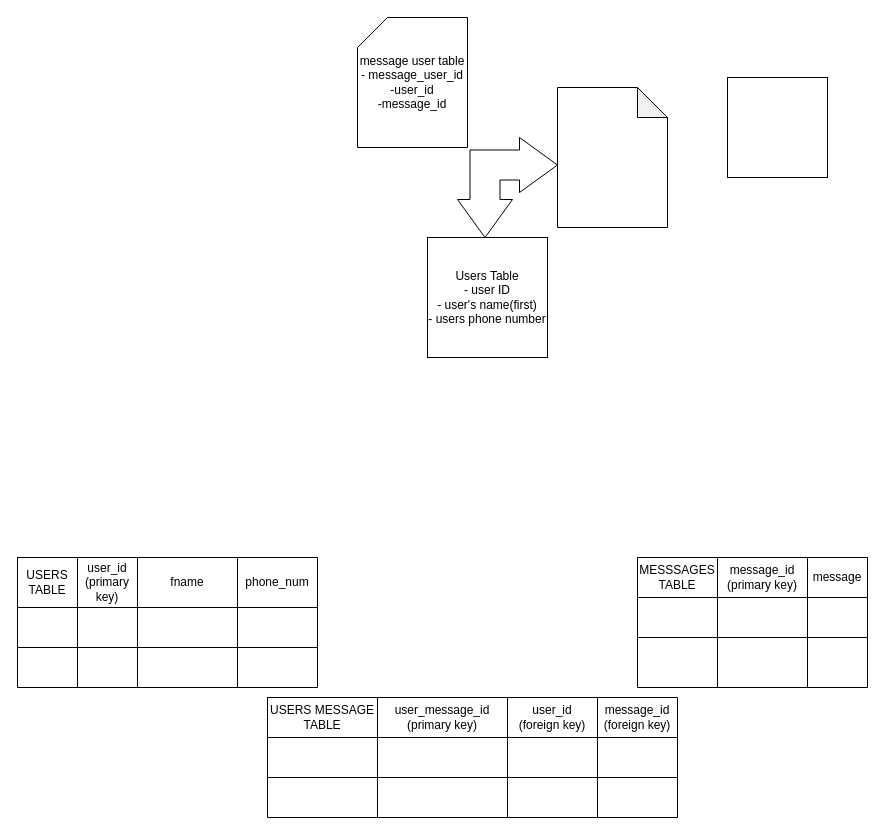
This 885x835 diagram has some shape labels left out. Each missing label, with the centre of its shape:
"many-to-many one user can have many messages, one message can have many users" belongs at point 777,127.
"Messages table - message id - message" belongs at point 612,157.
